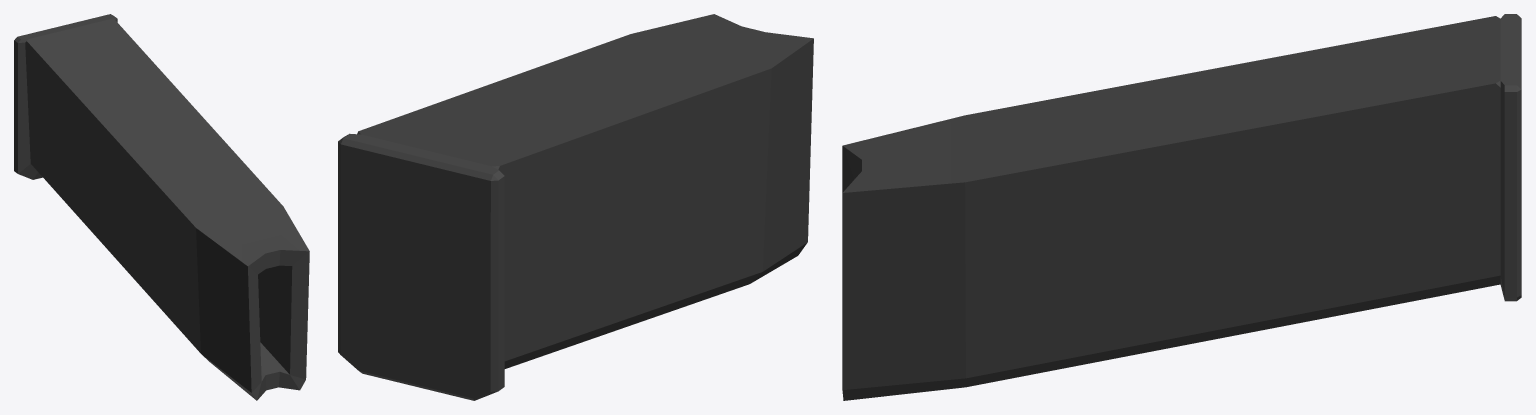
Rendered from PistolMag.glb.
3 renders of one model, left to right at view 1: azimuth 30°, elevation 25°; view 2: azimuth 150°, elevation 25°; view 3: azimuth 270°, elevation 25°, orthographic. The views are drawn at different scales.
Visible parts, largest first — view 1: PistolMag; view 2: PistolMag; view 3: PistolMag.
Boxes of the visible parts, bbox=[...] form: PistolMag: bbox=[14, 14, 309, 400]; PistolMag: bbox=[338, 14, 813, 400]; PistolMag: bbox=[842, 14, 1521, 400].
Bounding box in the file's own units: 0.0264 × 0.0539 × 0.0991.
Materials: 1 (1 with a texture image).
